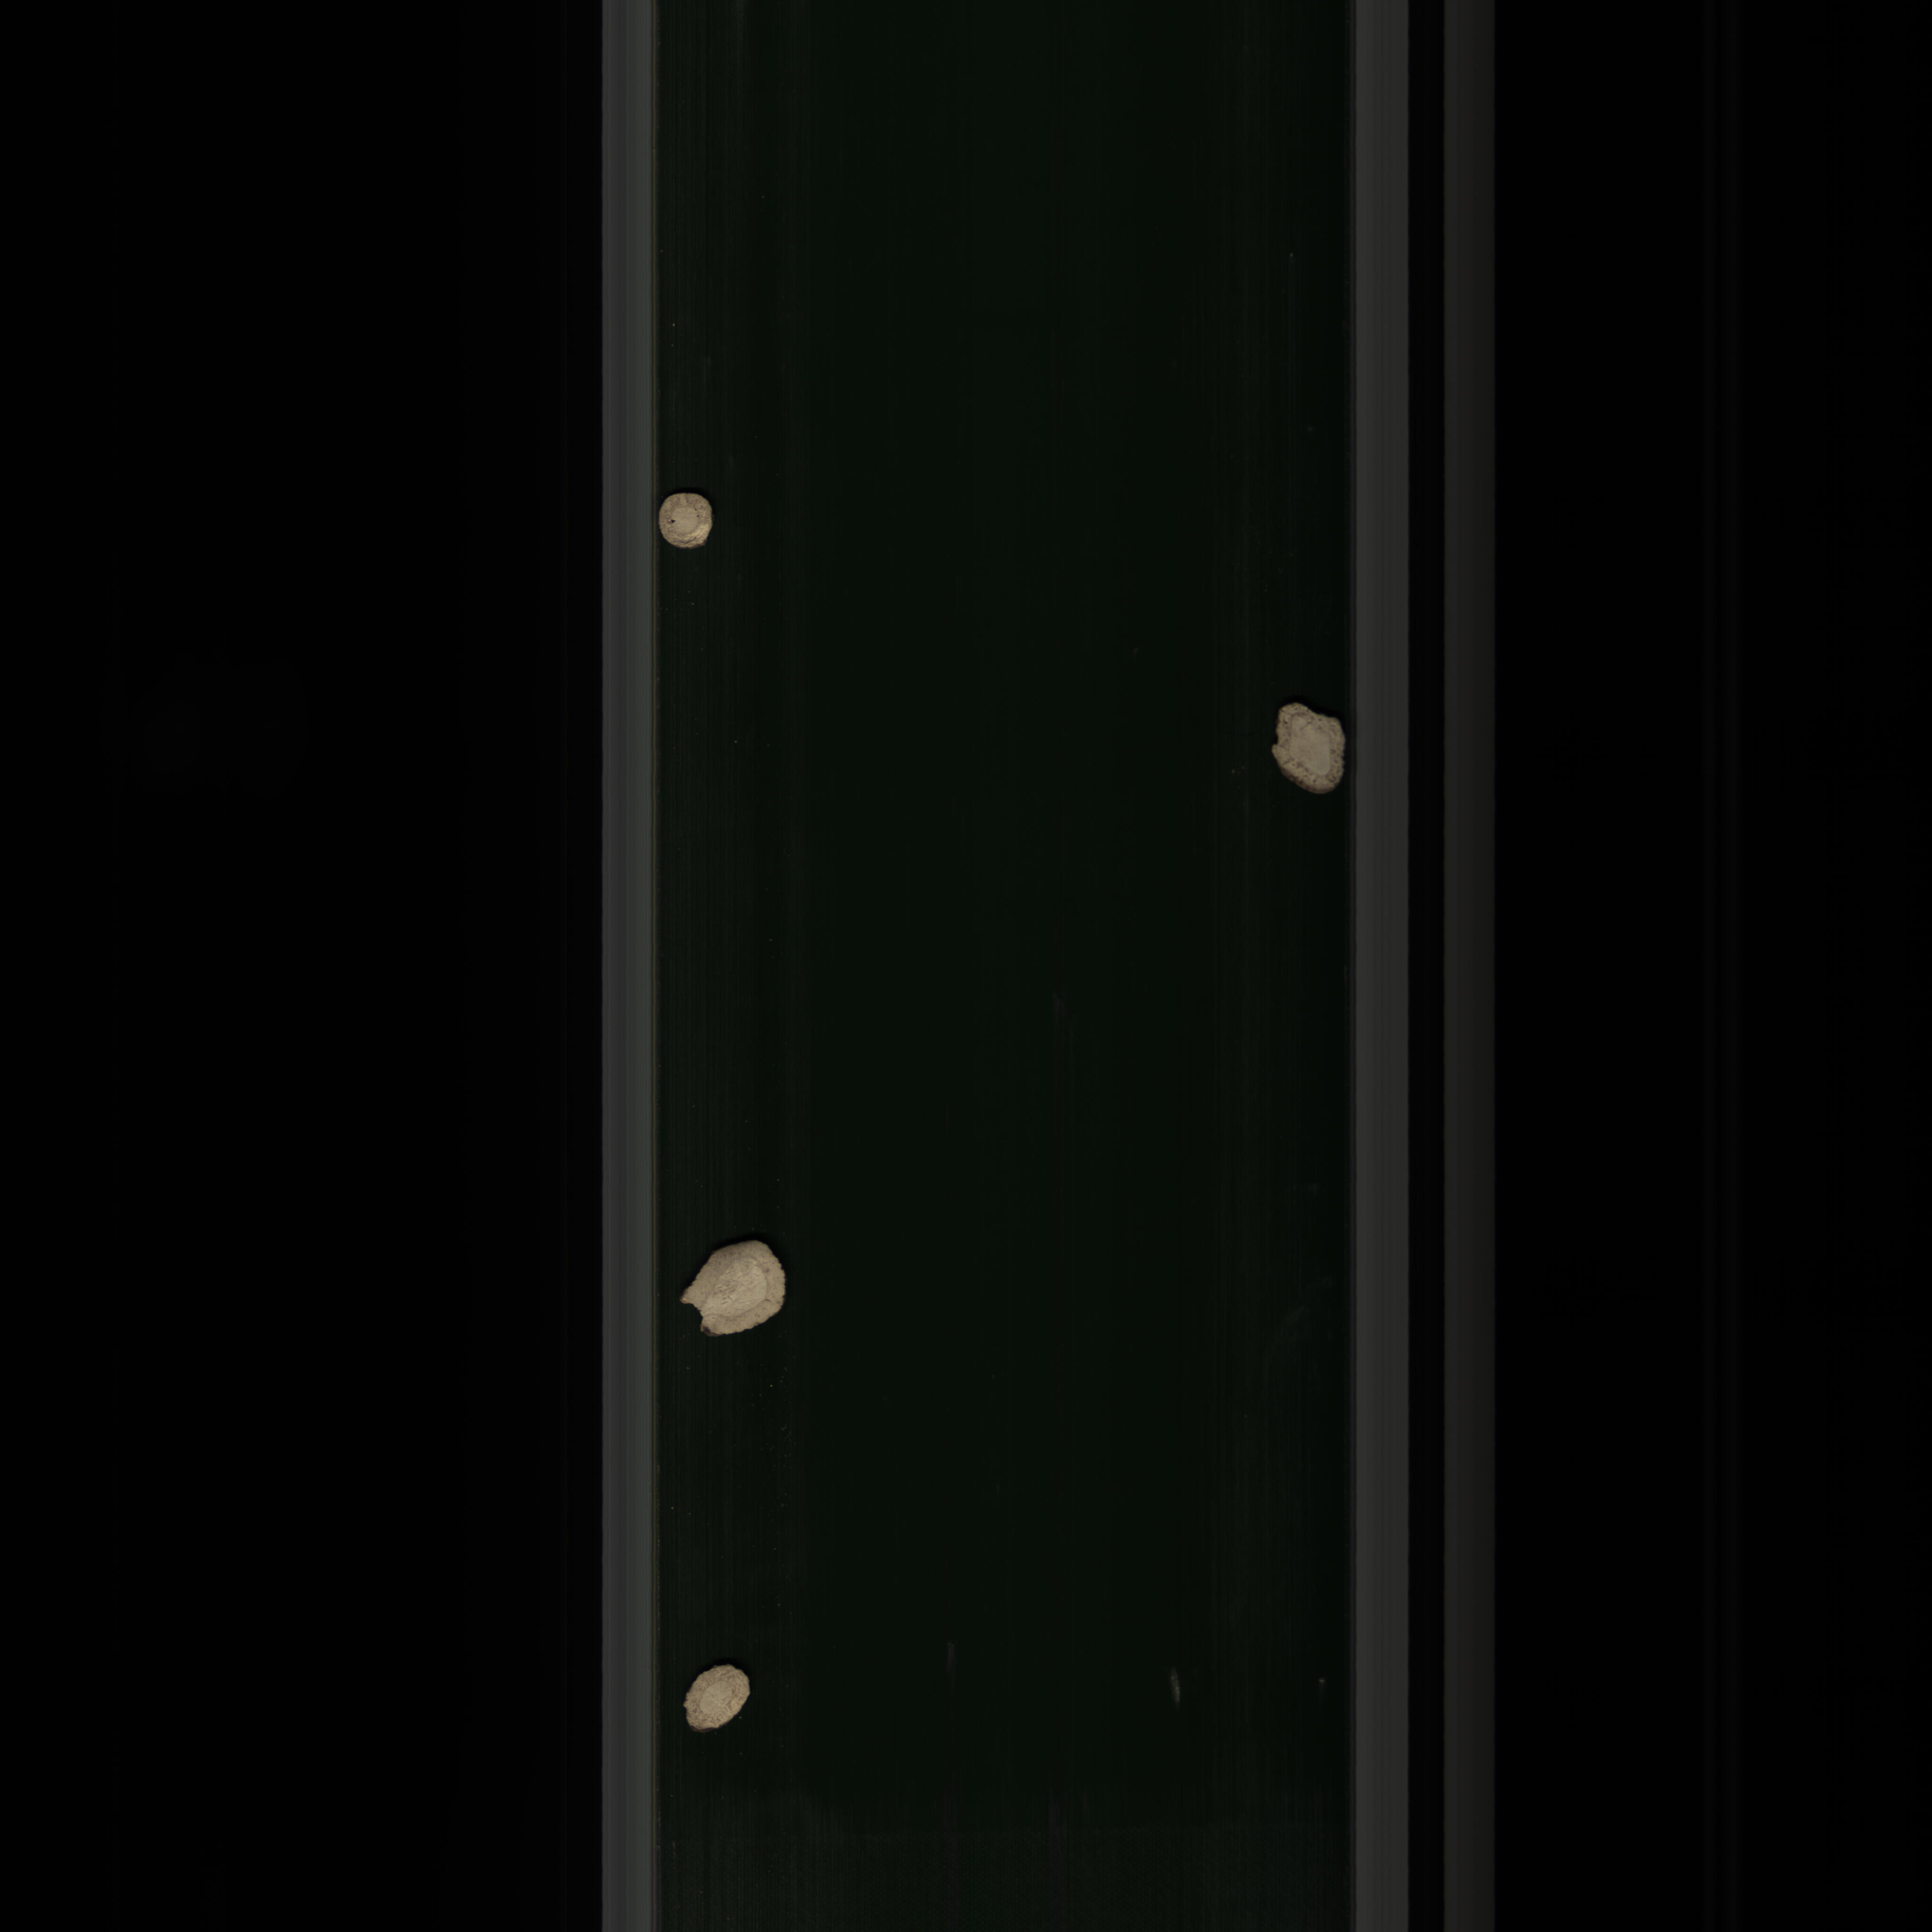debris: (671, 1226, 794, 1345)
distortion: (1256, 690, 1352, 807)
hole: (644, 488, 724, 563)
